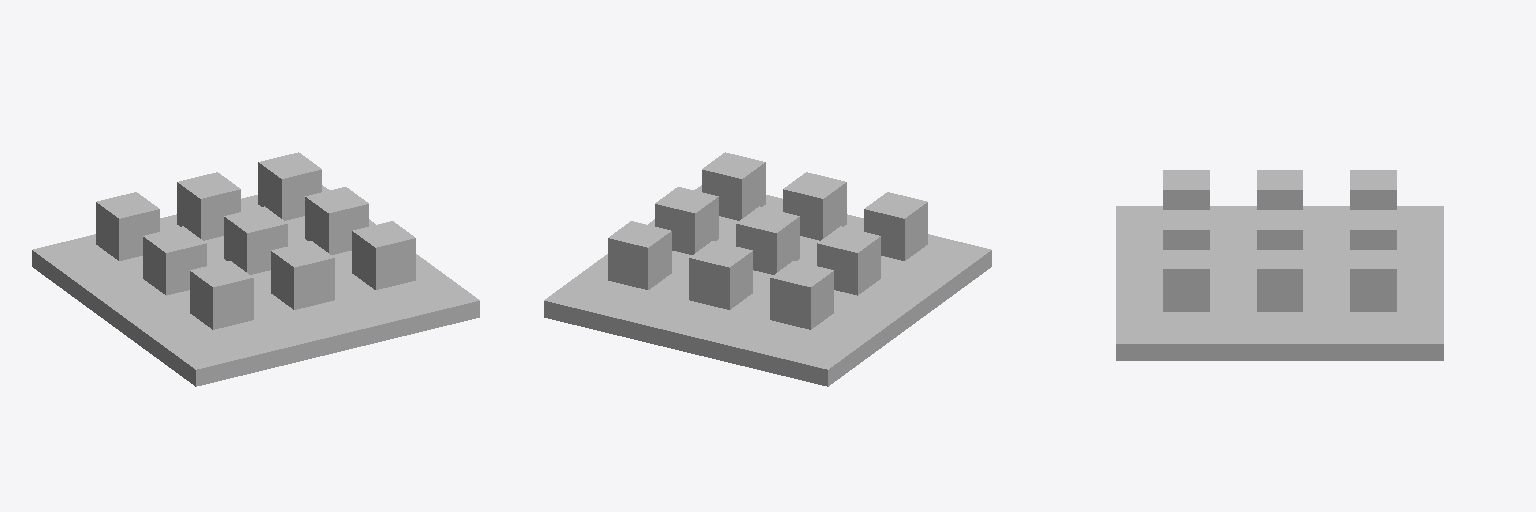
File: box-compare.obj
3 views of the same model, side by side, from view 1: azimuth 30°, elevation 25°; view 2: azimuth 150°, elevation 25°; view 3: azimuth 270°, elevation 25° (orthographic).
Parts seen in each view (by area): view 1: Ground, Cube22, Cube21, Cube20, Cube10, Cube00, Cube12, Cube11, Cube01, Cube02; view 2: Ground, Cube01, Cube02, Cube00, Cube10, Cube20, Cube12, Cube11, Cube22, Cube21; view 3: Ground, Cube22, Cube02, Cube12, Cube21, Cube20, Cube00, Cube01, Cube10, Cube11.
Part boxes in pixels (x1,y1,x2,y2): Ground: (32, 185, 479, 386); Cube22: (352, 221, 415, 289); Cube21: (271, 241, 334, 309); Cube20: (190, 261, 253, 329); Cube10: (143, 226, 206, 295); Cube00: (96, 192, 159, 260); Cube12: (305, 187, 368, 254); Cube11: (224, 206, 287, 274); Cube01: (177, 172, 240, 240); Cube02: (258, 152, 321, 220); Ground: (544, 185, 991, 386); Cube01: (689, 241, 752, 309); Cube02: (608, 221, 671, 289); Cube00: (770, 261, 833, 329); Cube10: (817, 226, 880, 295); Cube20: (864, 192, 927, 260); Cube12: (655, 187, 718, 254); Cube11: (736, 206, 799, 274); Cube22: (702, 152, 765, 220); Cube21: (783, 172, 846, 240); Ground: (1116, 206, 1443, 360); Cube22: (1163, 250, 1209, 311); Cube02: (1350, 250, 1396, 311); Cube12: (1257, 250, 1302, 311); Cube21: (1163, 210, 1209, 249); Cube20: (1163, 170, 1209, 209); Cube00: (1350, 170, 1396, 209); Cube01: (1350, 210, 1396, 249); Cube10: (1257, 170, 1302, 209); Cube11: (1257, 210, 1302, 249).
Size of the model in its own units: 3.5 by 0.85 by 3.5.